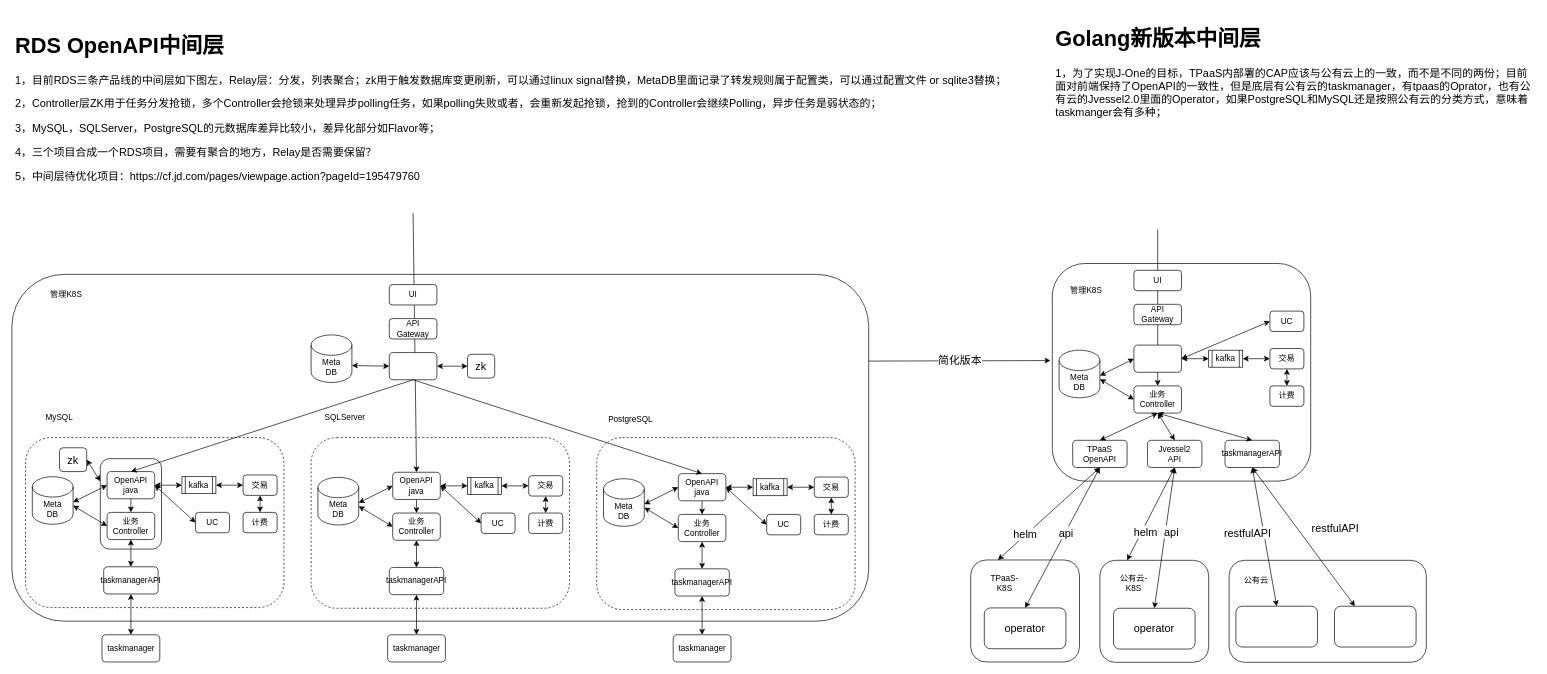
Image size: 1547x674. Some labels were removed from this diagram. Each missing label, with the box of its shape:
OpenAPI java/go: (1133, 344, 1182, 372)
OpenAPI Relay: (389, 352, 437, 380)
taskmanager MySQL: (1235, 606, 1318, 647)
taskmanager PostgreSQL: (1334, 606, 1416, 647)
